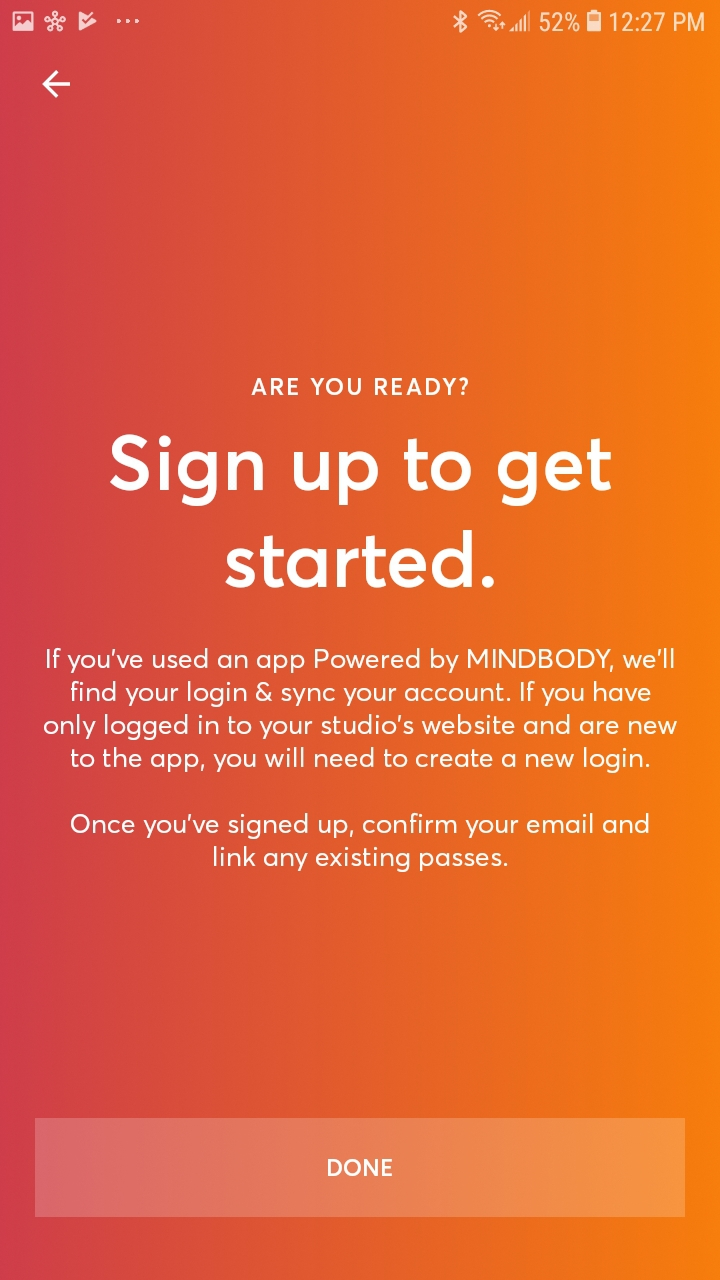Icon: (42, 71, 71, 99)
Text: (44, 648, 678, 775), (109, 434, 612, 591), (71, 812, 649, 872), (252, 378, 468, 396)
TextButton: (35, 1118, 686, 1218)
UpperTaskBar: (1, 1, 720, 35)
